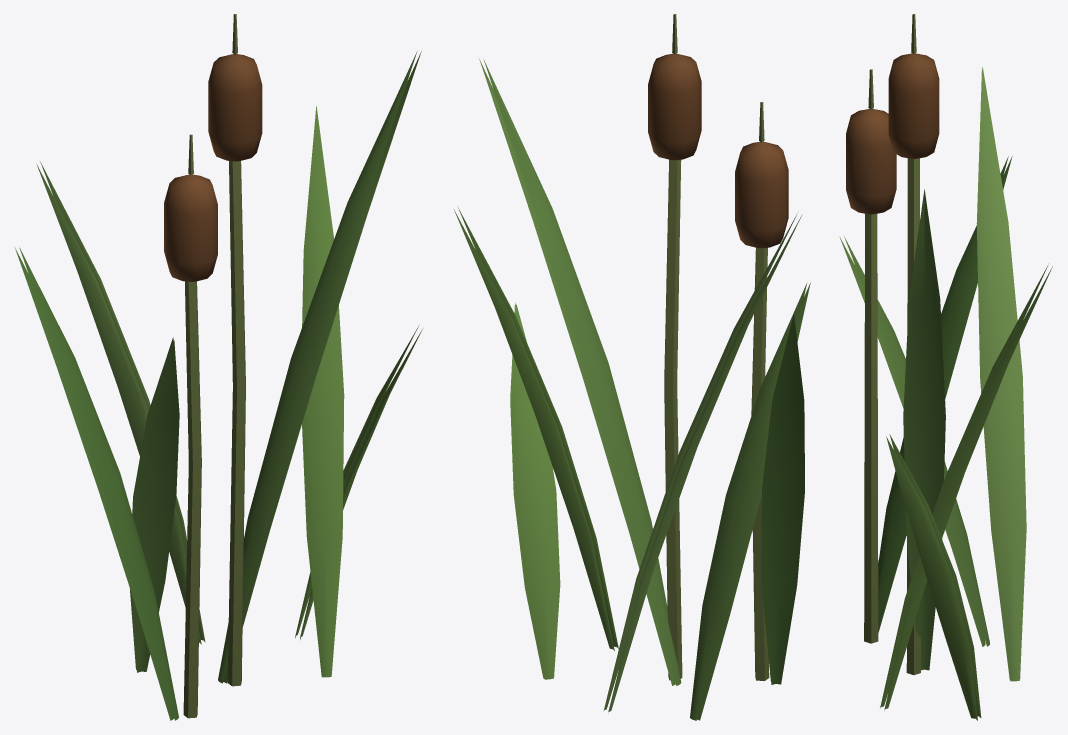
File: reeds.glb
3 views of the same model, side by side, from view 1: azimuth 30°, elevation 25°; view 2: azimuth 150°, elevation 25°; view 3: azimuth 270°, elevation 25° (orthographic).
Parts seen in each view (by area): view 1: reeds; view 2: reeds; view 3: reeds.
Boxes of the visible parts, <box> form: reeds: <box>14,14,422,720</box>; reeds: <box>454,14,810,720</box>; reeds: <box>839,14,1052,720</box>.
Bounding box in the file's own units: 0.7723 × 1.36 × 0.4029.
